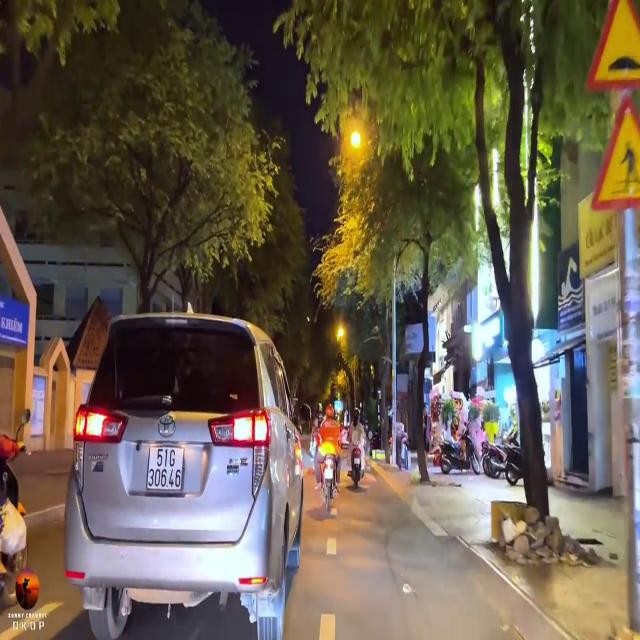bien_trang: (146, 441, 182, 494)
